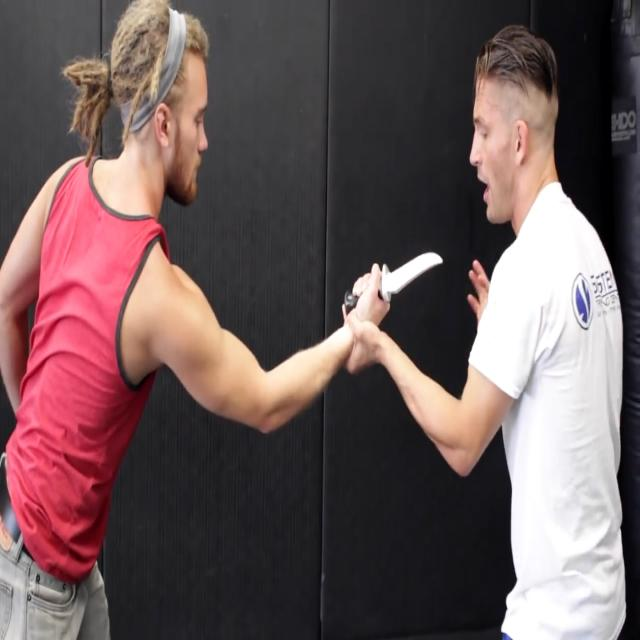knife: (379, 251, 447, 296)
